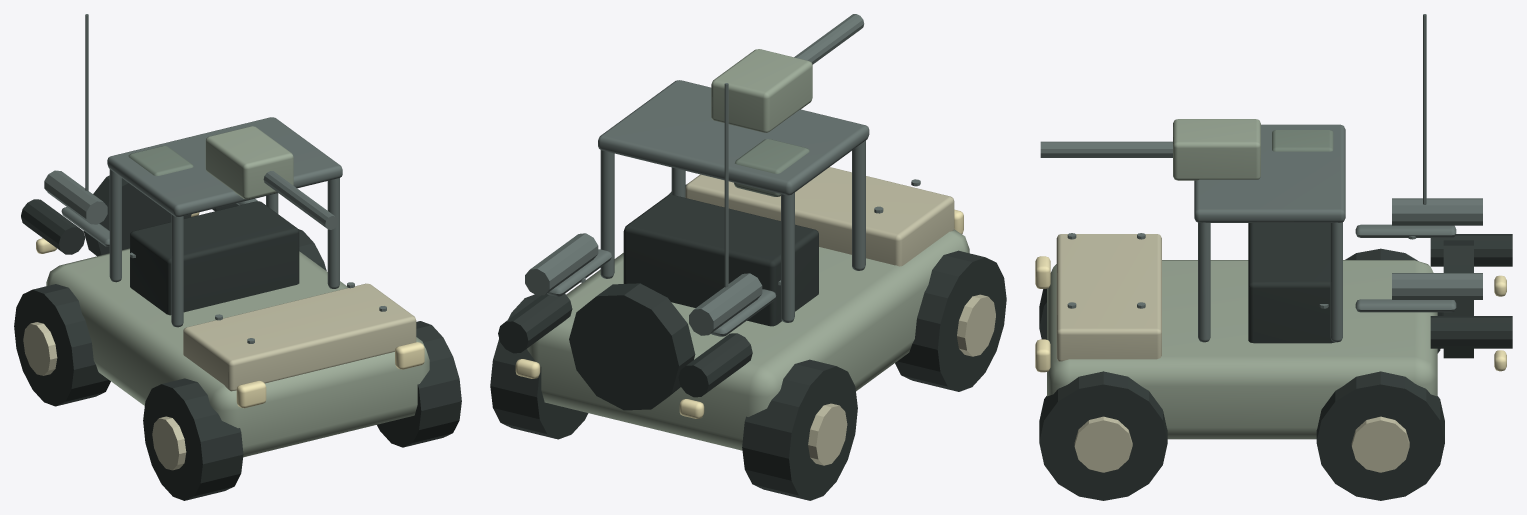
File: buggy.glb
The picture shows the model from 3 angles, left to right: view 1: azimuth 30°, elevation 25°; view 2: azimuth 150°, elevation 25°; view 3: azimuth 270°, elevation 25°; orthographic projection. The views are drawn at different scales.
Visible parts, largest first — view 1: Chassis, TurretArmor; view 2: Chassis, TurretArmor; view 3: Chassis, TurretArmor.
Part boxes in pixels (x1,y1,x2,y2): Chassis: (14,14,461,500); TurretArmor: (128,126,338,229); Chassis: (490,80,1006,500); TurretArmor: (711,14,864,196); Chassis: (1035,14,1512,500); TurretArmor: (1040,119,1333,180).
Bounding box in the file's own units: 2.69 × 3.36 × 3.78.
